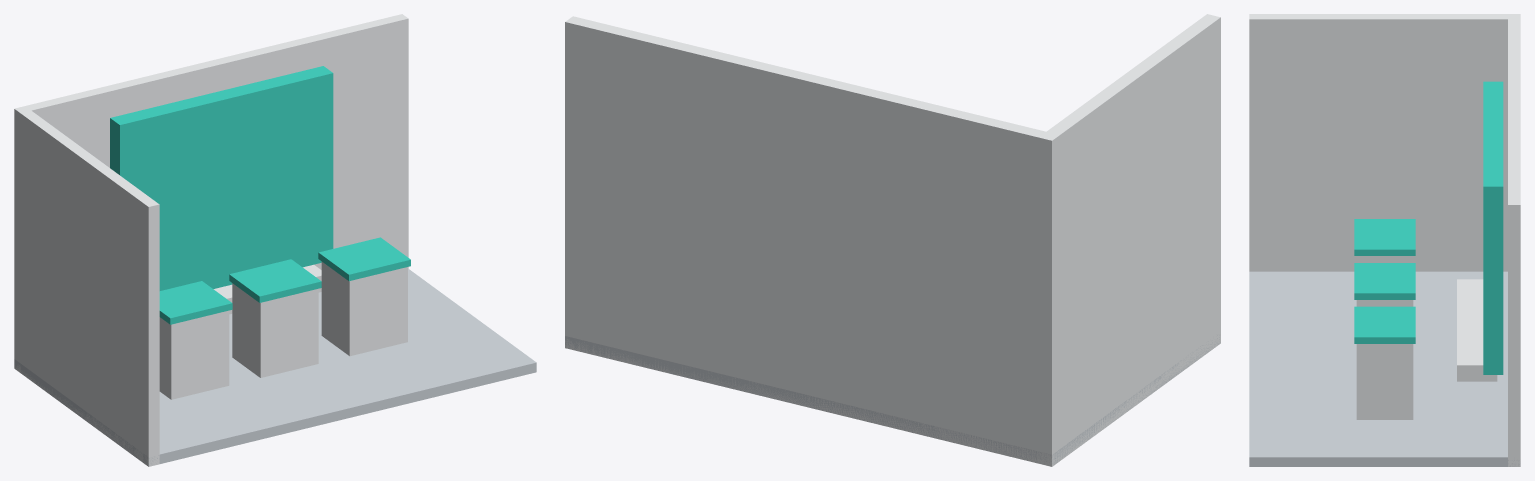
3 renders of one model, left to right at view 1: azimuth 30°, elevation 25°; view 2: azimuth 150°, elevation 25°; view 3: azimuth 270°, elevation 25°, orthographic. The views are drawn at different scales.
Visible parts, largest first — view 1: Exhibition Booth Concept; view 2: Exhibition Booth Concept; view 3: Exhibition Booth Concept.
Part boxes in pixels (x1=…): Exhibition Booth Concept: x1=14, y1=14, x2=536, y2=466; Exhibition Booth Concept: x1=565, y1=14, x2=1220, y2=466; Exhibition Booth Concept: x1=1249, y1=14, x2=1520, y2=466.
Bounding box in the file's own units: 5 × 3.2 × 3.
